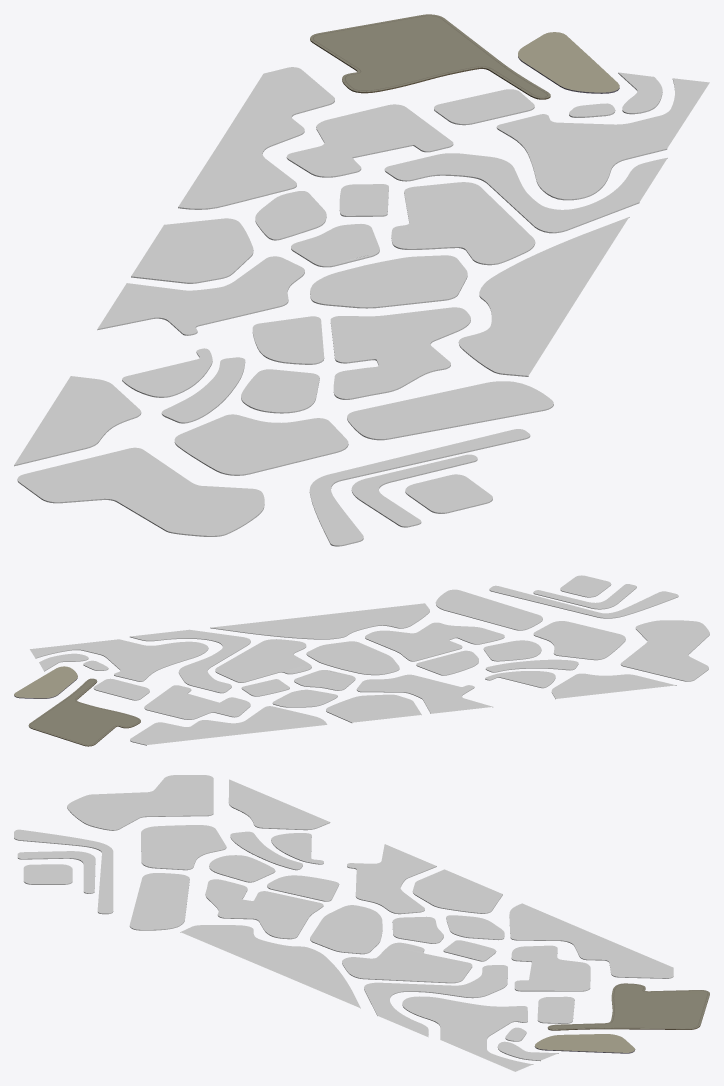
Rendered from env_sidewalk.fbx.
3 views of the same model, one above another, from view 1: azimuth 30°, elevation 25°; view 2: azimuth 150°, elevation 25°; view 3: azimuth 270°, elevation 25° (orthographic). The views are drawn at different scales.
Parts seen in each view (by area): view 1: env_sidewalk_28, env_sidewalk_29, env_sidewalk_18, env_sidewalk_16, env_sidewalk_13, env_sidewalk_04, env_sidewalk_07, env_sidewalk_03, env_sidewalk_10, env_sidewalk_12, env_sidewalk_23, env_sidewalk_01 (+16 smaller); view 2: env_sidewalk_29, env_sidewalk_28, env_sidewalk_13, env_sidewalk_16, env_sidewalk_18, env_sidewalk_04, env_sidewalk_07, env_sidewalk_03, env_sidewalk_10, env_sidewalk_12, env_sidewalk_23, env_sidewalk_01 (+16 smaller); view 3: env_sidewalk_28, env_sidewalk_29, env_sidewalk_18, env_sidewalk_16, env_sidewalk_13, env_sidewalk_04, env_sidewalk_07, env_sidewalk_03, env_sidewalk_10, env_sidewalk_12, env_sidewalk_23, env_sidewalk_17 (+16 smaller).
Part boxes in pixels (x1=…): env_sidewalk_28: x1=17, y1=447, x2=264, y2=536; env_sidewalk_29: x1=458, y1=217, x2=629, y2=376; env_sidewalk_18: x1=178, y1=67, x2=334, y2=209; env_sidewalk_16: x1=310, y1=14, x2=550, y2=99; env_sidewalk_13: x1=496, y1=78, x2=709, y2=200; env_sidewalk_04: x1=330, y1=307, x2=470, y2=399; env_sidewalk_07: x1=391, y1=182, x2=535, y2=265; env_sidewalk_03: x1=97, y1=256, x2=304, y2=335; env_sidewalk_10: x1=174, y1=414, x2=348, y2=475; env_sidewalk_12: x1=384, y1=153, x2=667, y2=233; env_sidewalk_23: x1=347, y1=381, x2=553, y2=440; env_sidewalk_01: x1=310, y1=255, x2=467, y2=308; env_sidewalk_29: x1=210, y1=603, x2=429, y2=639; env_sidewalk_28: x1=620, y1=620, x2=709, y2=681; env_sidewalk_13: x1=30, y1=639, x2=208, y2=681; env_sidewalk_16: x1=28, y1=678, x2=140, y2=746; env_sidewalk_18: x1=130, y1=706, x2=327, y2=745; env_sidewalk_04: x1=365, y1=622, x2=504, y2=661; env_sidewalk_07: x1=215, y1=639, x2=311, y2=682; env_sidewalk_03: x1=356, y1=674, x2=492, y2=713; env_sidewalk_10: x1=533, y1=621, x2=625, y2=660; env_sidewalk_12: x1=130, y1=629, x2=250, y2=693; env_sidewalk_23: x1=435, y1=589, x2=542, y2=630; env_sidewalk_01: x1=306, y1=641, x2=399, y2=675; env_sidewalk_28: x1=67, y1=775, x2=213, y2=830; env_sidewalk_29: x1=180, y1=925, x2=360, y2=1008; env_sidewalk_18: x1=509, y1=903, x2=673, y2=978; env_sidewalk_16: x1=547, y1=983, x2=709, y2=1030; env_sidewalk_13: x1=402, y1=996, x2=533, y2=1071; env_sidewalk_04: x1=205, y1=879, x2=323, y2=939; env_sidewalk_07: x1=342, y1=942, x2=472, y2=983; env_sidewalk_03: x1=347, y1=844, x2=436, y2=914; env_sidewalk_10: x1=141, y1=825, x2=226, y2=870; env_sidewalk_12: x1=364, y1=965, x2=507, y2=1036; env_sidewalk_23: x1=129, y1=873, x2=189, y2=930; env_sidewalk_17: x1=511, y1=945, x2=590, y2=991.
Bounding box in the file's own units: 11594 × 14.45 × 11486.
